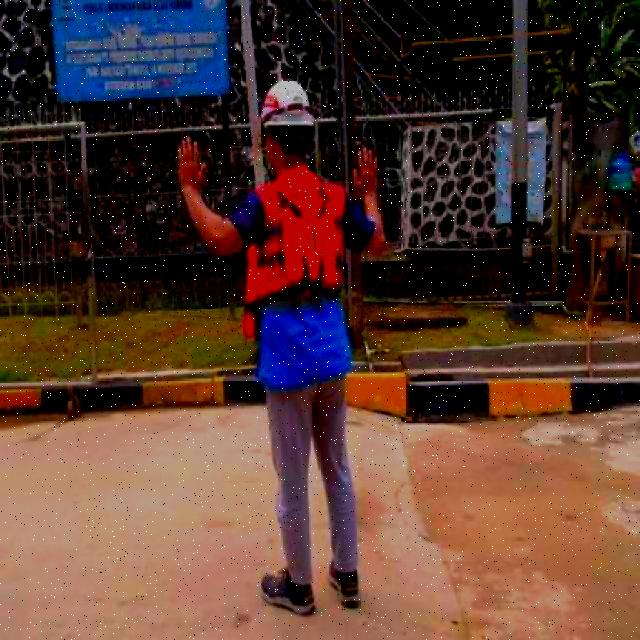Boots: (258, 564, 318, 620), (327, 554, 362, 610)
Helmet: (259, 76, 318, 132)
Mask: (276, 190, 342, 284)
